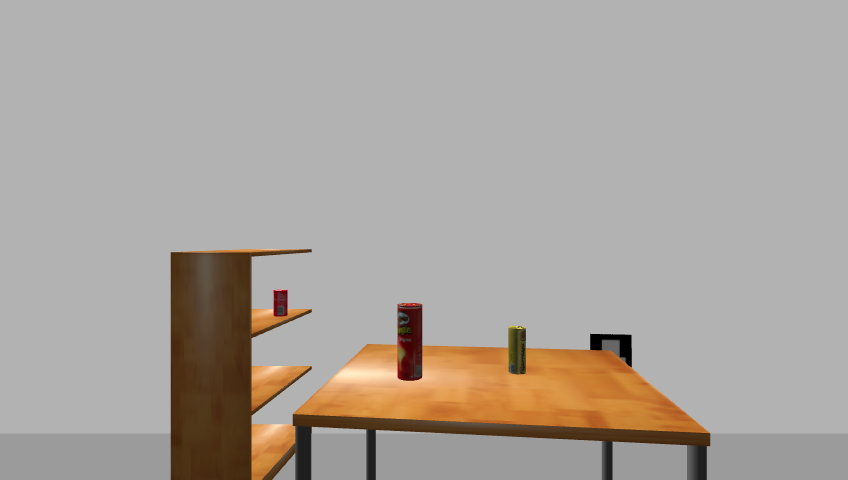aruco marker: (585, 332, 636, 371)
biscuits pack: (507, 326, 528, 376)
bookshelf: (166, 246, 315, 480)
coke can: (271, 289, 290, 317)
dinner table: (288, 343, 718, 480)
pringles can: (395, 302, 424, 383)
